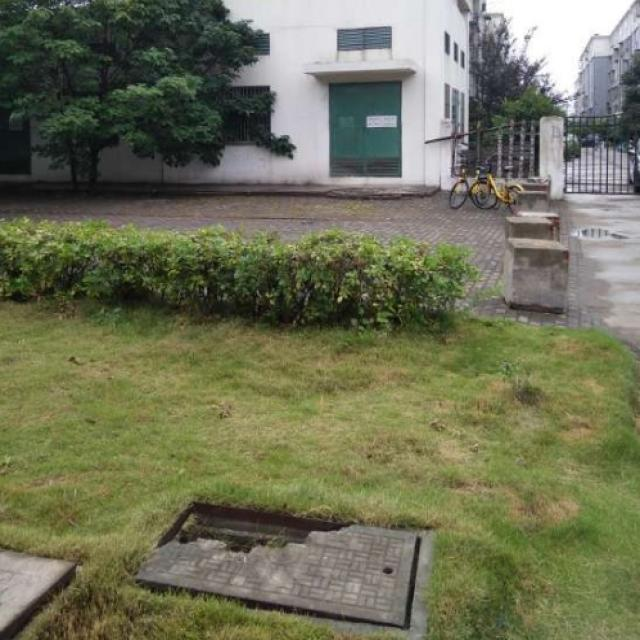Faulty: (154, 491, 426, 634)
